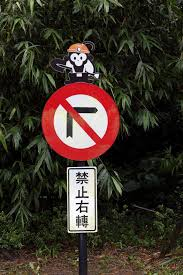No_right_turn: (41, 82, 121, 160)
